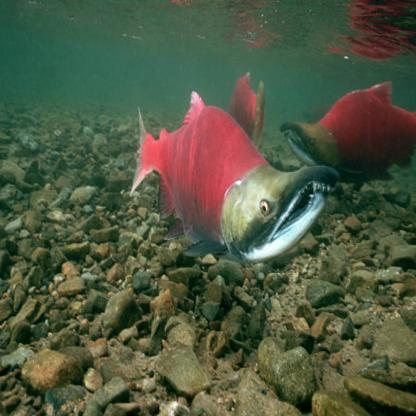sockeye: (132, 100, 327, 271), (274, 79, 414, 179)
